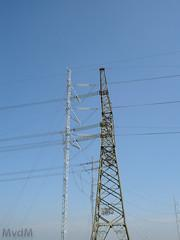power_tower: (90, 62, 133, 240)
